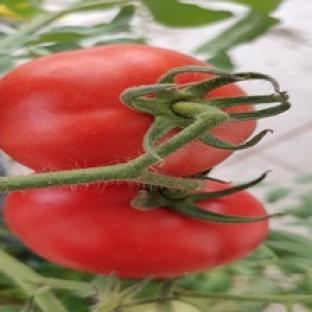Tomato: (0, 45, 207, 171), (5, 184, 267, 278)
